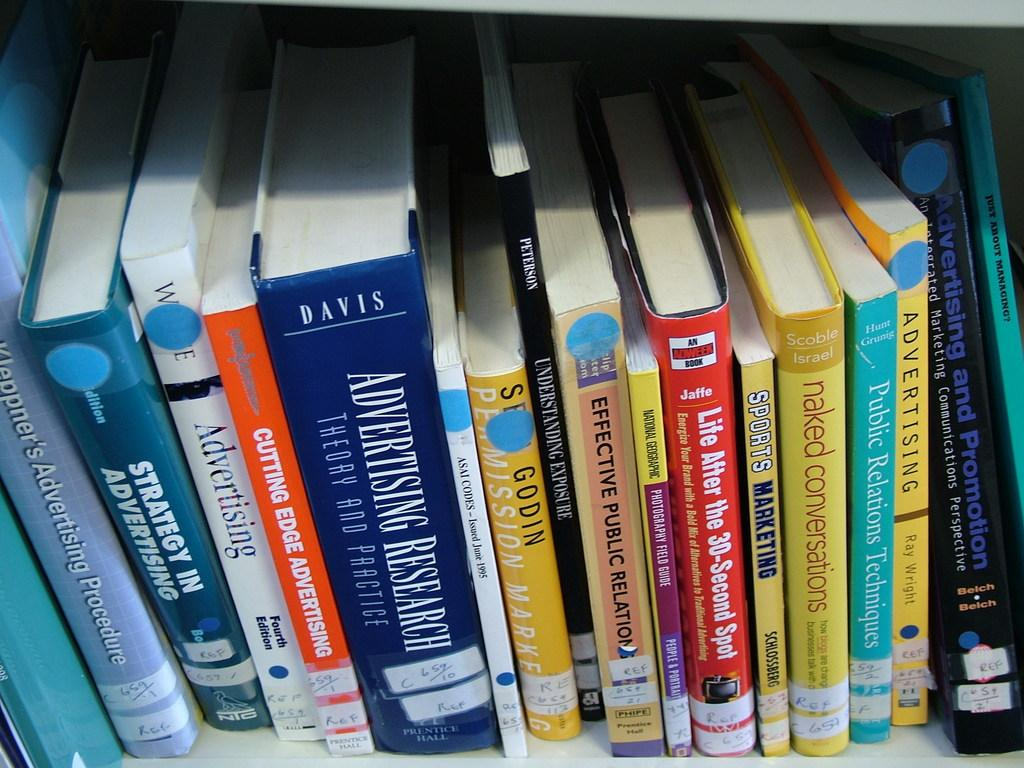Book: (433, 13, 1023, 763), (0, 3, 376, 767), (250, 36, 498, 757)
